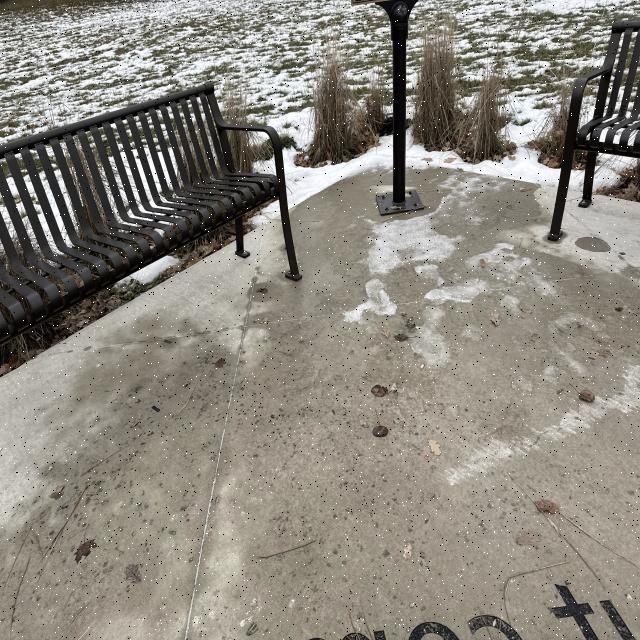Bench: (544, 12, 640, 232)
